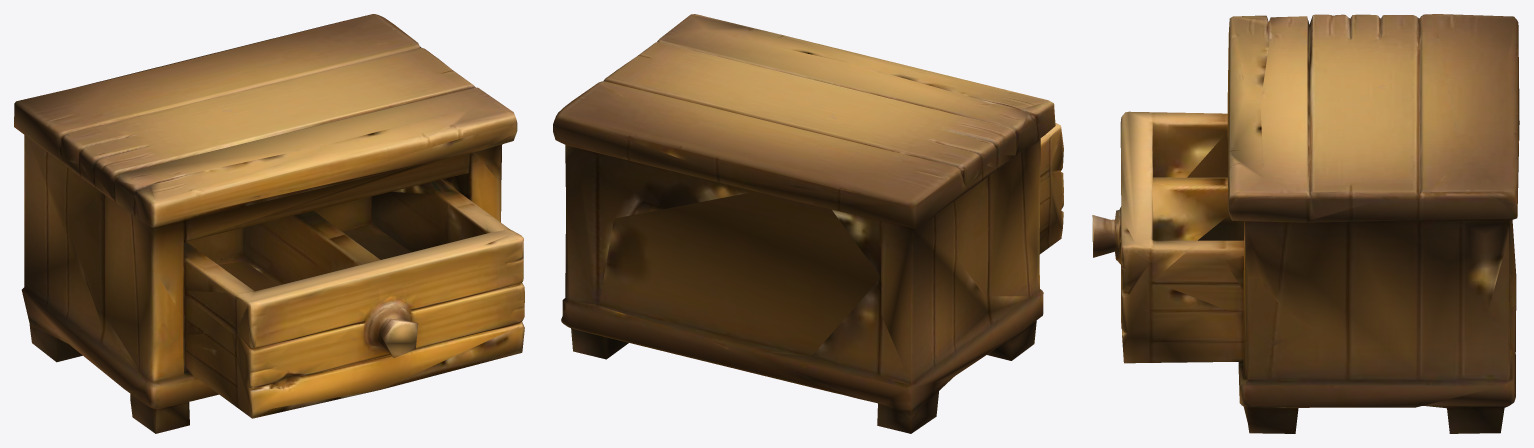
Rendered from till.glb.
3 views of the same model, side by side, from view 1: azimuth 30°, elevation 25°; view 2: azimuth 150°, elevation 25°; view 3: azimuth 270°, elevation 25° (orthographic). The views are drawn at different scales.
Visible parts, largest first — view 1: node_0; view 2: node_0; view 3: node_0.
Part boxes in pixels (x1,y1,x2,y2): node_0: (14, 14, 524, 433); node_0: (553, 14, 1063, 433); node_0: (1092, 14, 1519, 433).
Size of the model in its own units: 0.7912 by 0.5005 by 0.785.
Materials: 1 (1 with a texture image).
